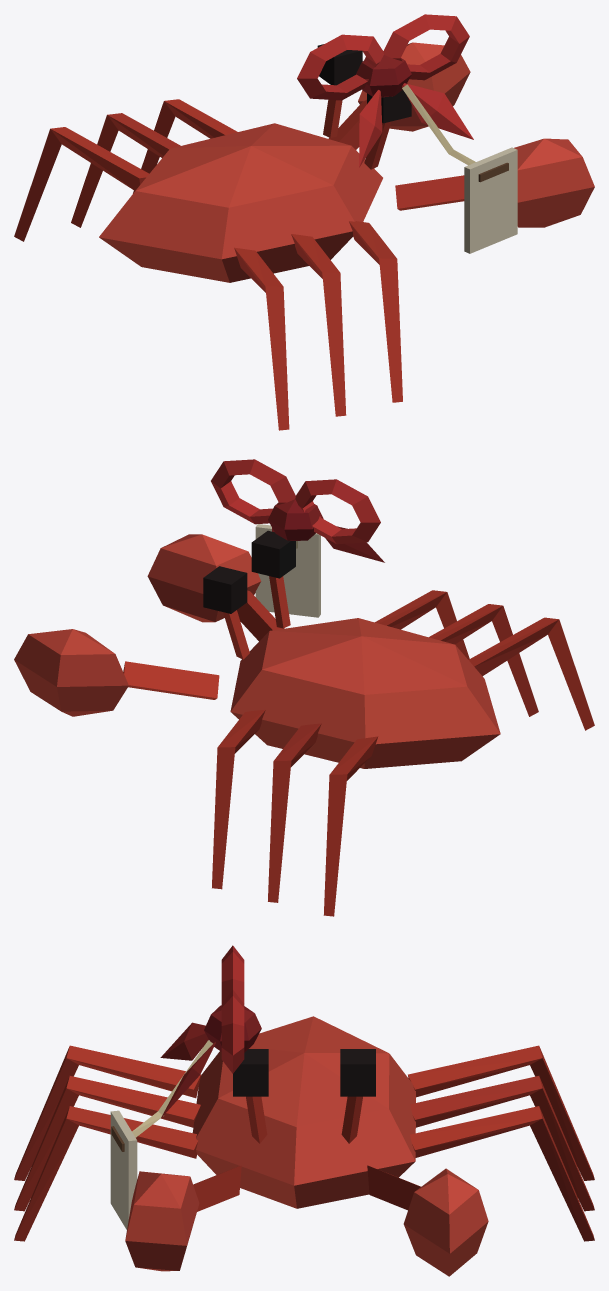
File: quest_crab.glb
3 views of the same model, one above another, from view 1: azimuth 30°, elevation 25°; view 2: azimuth 150°, elevation 25°; view 3: azimuth 270°, elevation 25° (orthographic). The views are drawn at different scales.
Parts seen in each view (by area): view 1: quest_crab; view 2: quest_crab; view 3: quest_crab.
Part boxes in pixels (bbox=[...]): quest_crab: bbox=[14, 14, 594, 430]; quest_crab: bbox=[14, 459, 594, 916]; quest_crab: bbox=[14, 945, 594, 1276].
Size of the model in its own units: 0.3754 by 0.2377 by 0.4.
